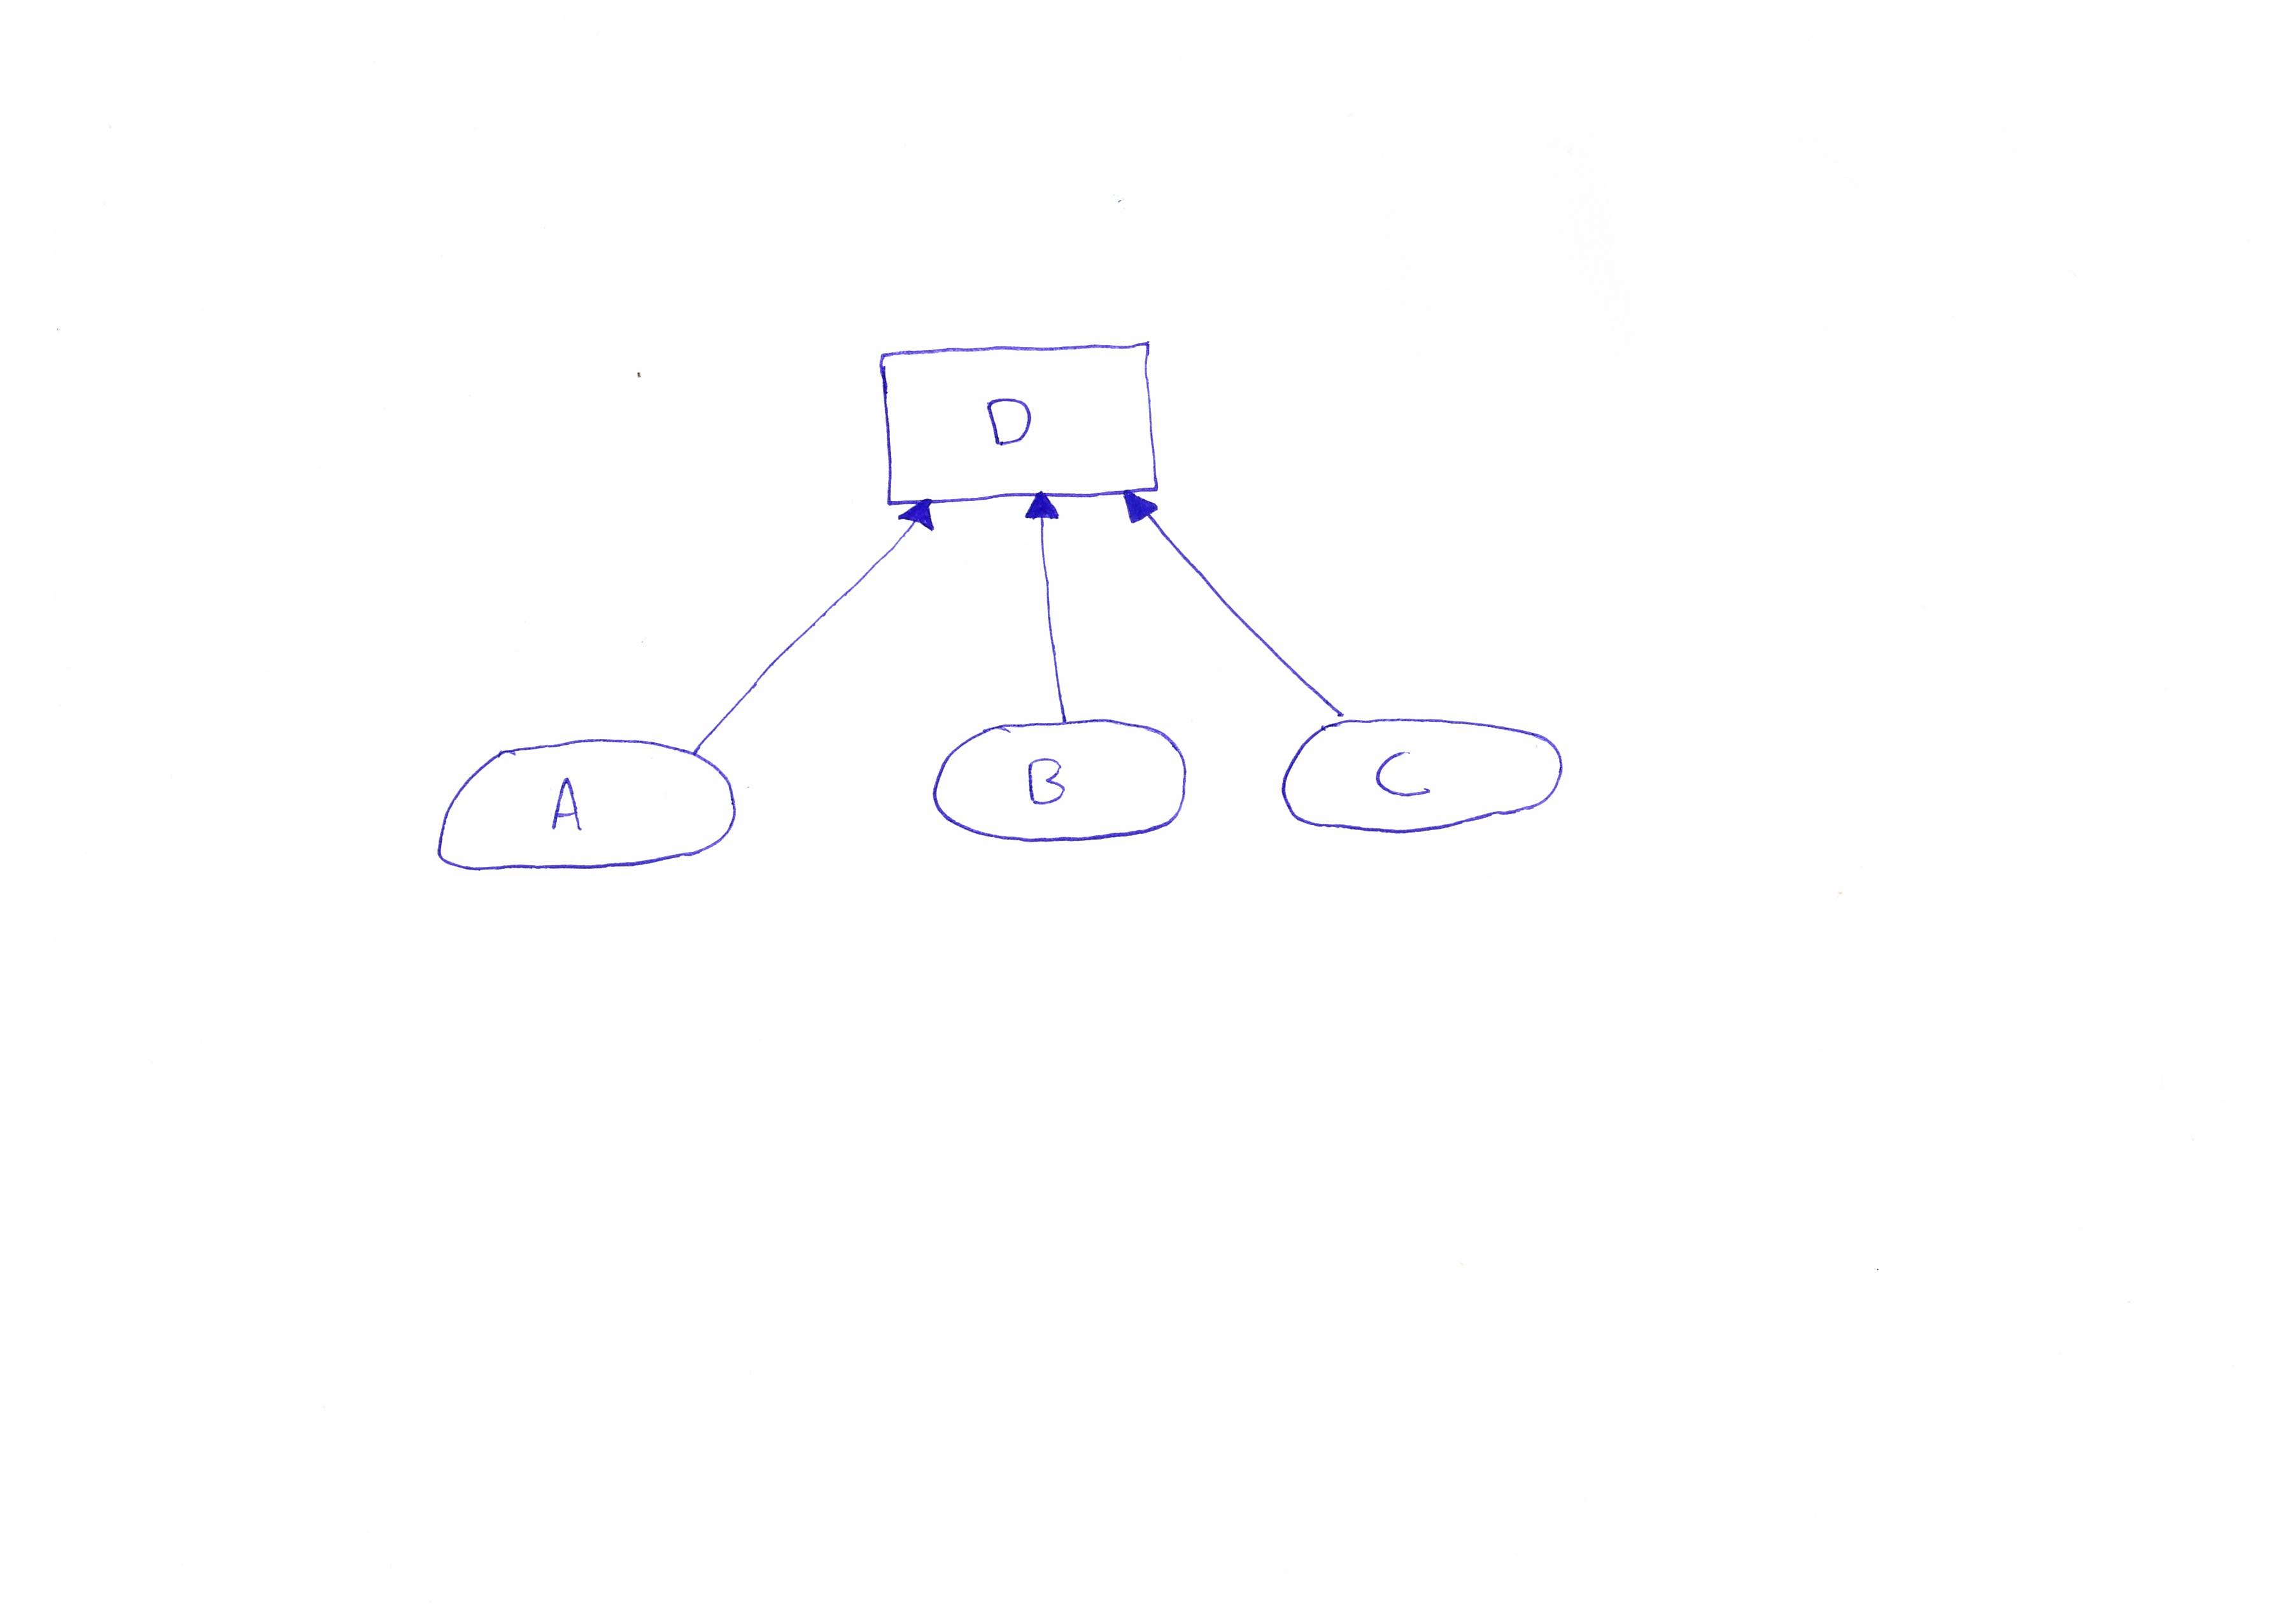arrow_information_requirement: (682, 494, 947, 758), (1109, 492, 1348, 717), (1017, 487, 1067, 726)
node_decision: (865, 337, 1161, 506)
node_input_data: (432, 736, 750, 881), (1276, 717, 1588, 844), (930, 719, 1200, 849)
text: (959, 388, 1058, 459), (1364, 743, 1450, 807), (1016, 743, 1081, 821), (536, 770, 601, 845)
